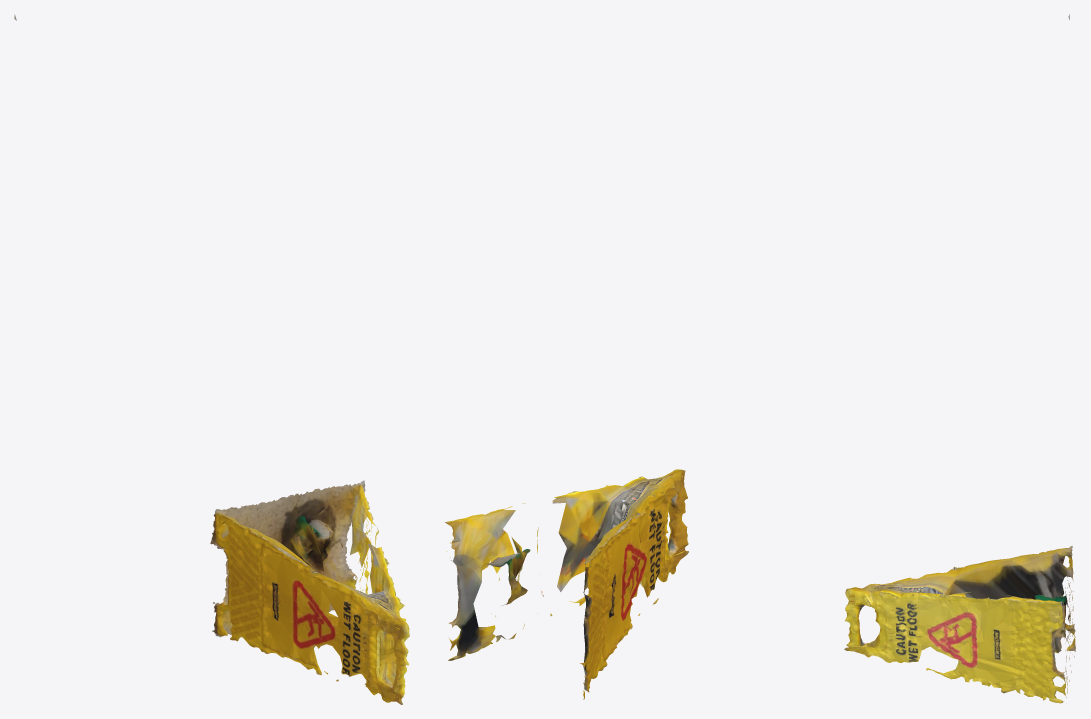
File: objek-ainil.glb
The picture shows the model from 3 angles, left to right: view 1: azimuth 30°, elevation 25°; view 2: azimuth 150°, elevation 25°; view 3: azimuth 270°, elevation 25°; orthographic projection. The views are drawn at different scales.
Size of the model in its own units: 41.37 by 77.39 by 29.18.
1 material, 1 textured.
